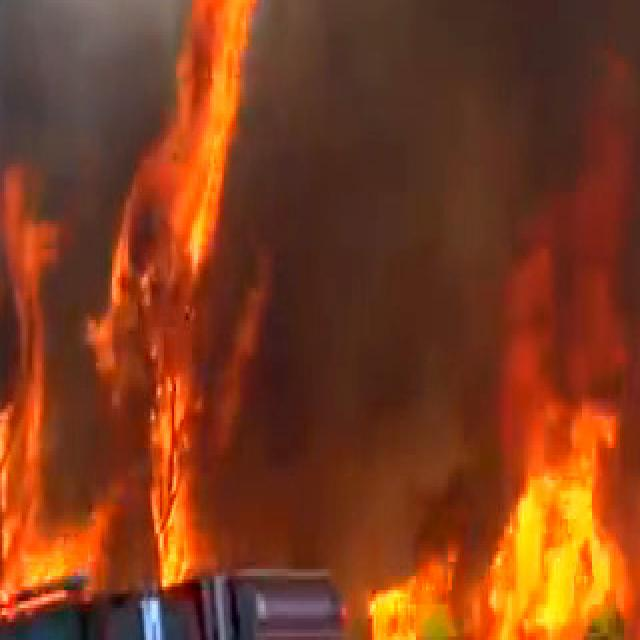fire: (110, 0, 280, 580), (0, 192, 64, 583), (488, 419, 594, 640)
smoke: (376, 0, 622, 64)
